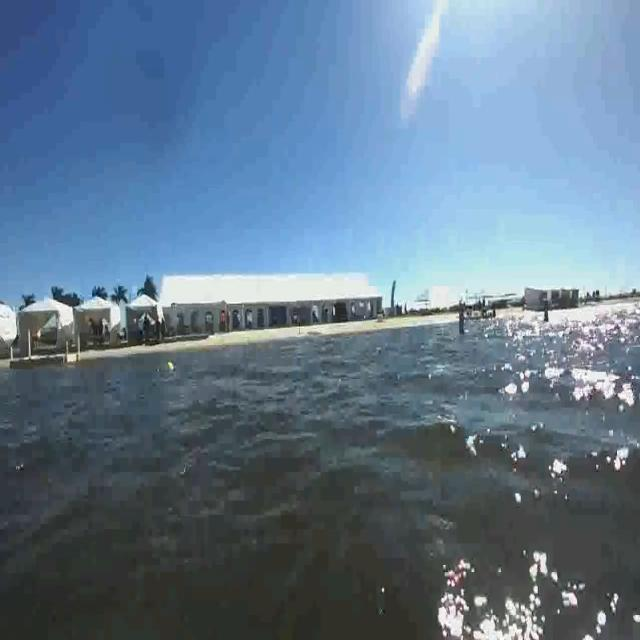yellow-buoy: (168, 359, 175, 371)
